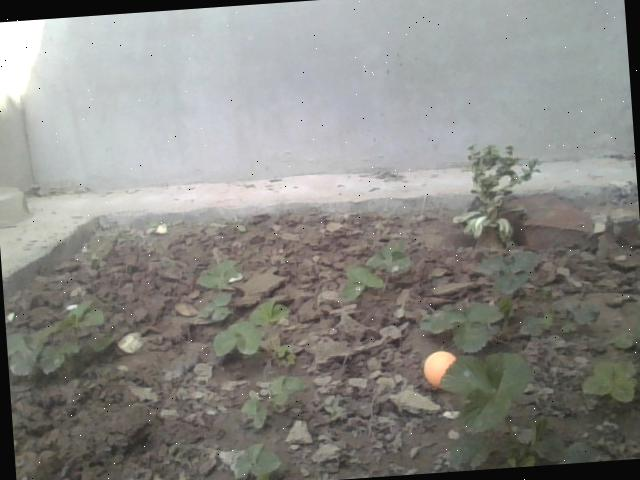ball: (424, 351, 458, 388)
